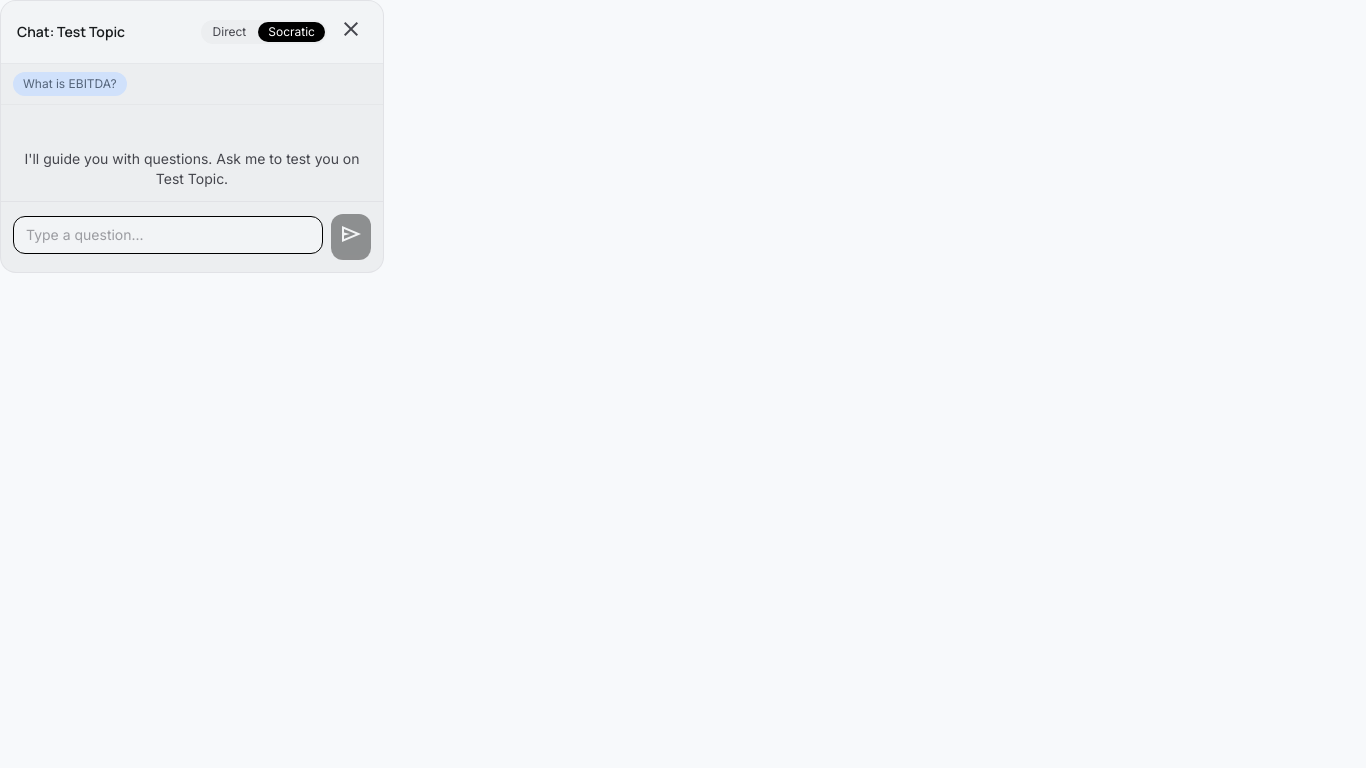
Scenario: ChatDrawer Advanced › handles fetch failure gracefully
Type "Test" into the text box with placeholder "Type a question...".
click(168, 235); type("Test")  # box [13, 216, 323, 254]
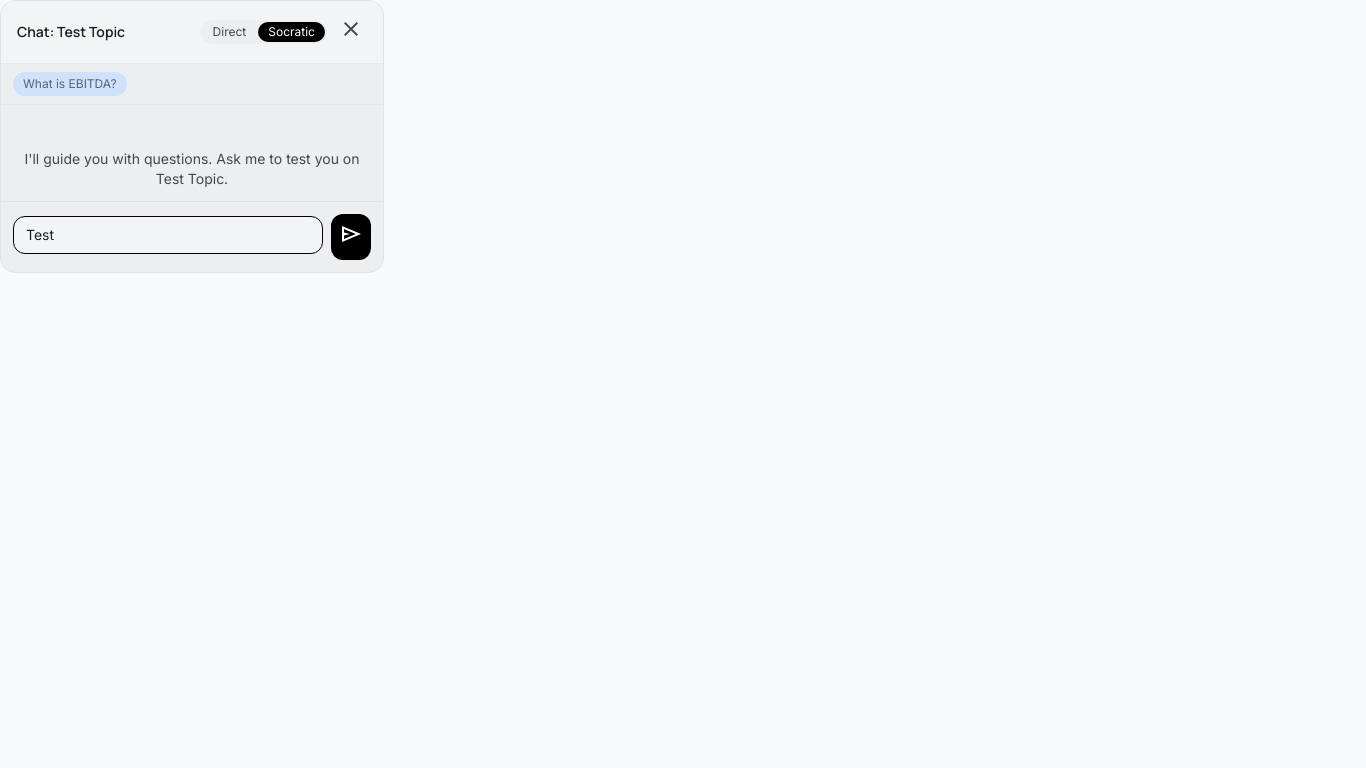
Click the button titled "Send".
click(351, 237)  # box [331, 214, 371, 260]
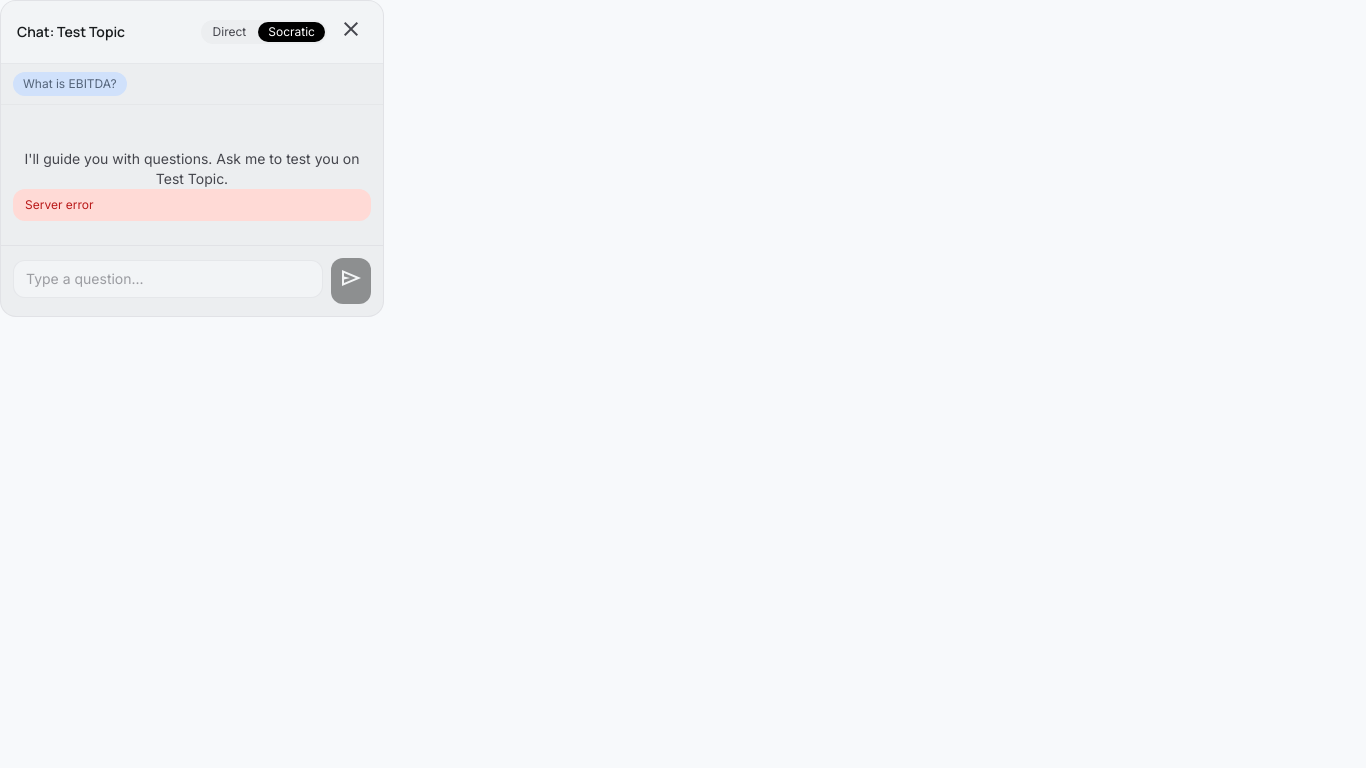
expect the text "Server error" is shown: met, box [13, 189, 371, 221]
